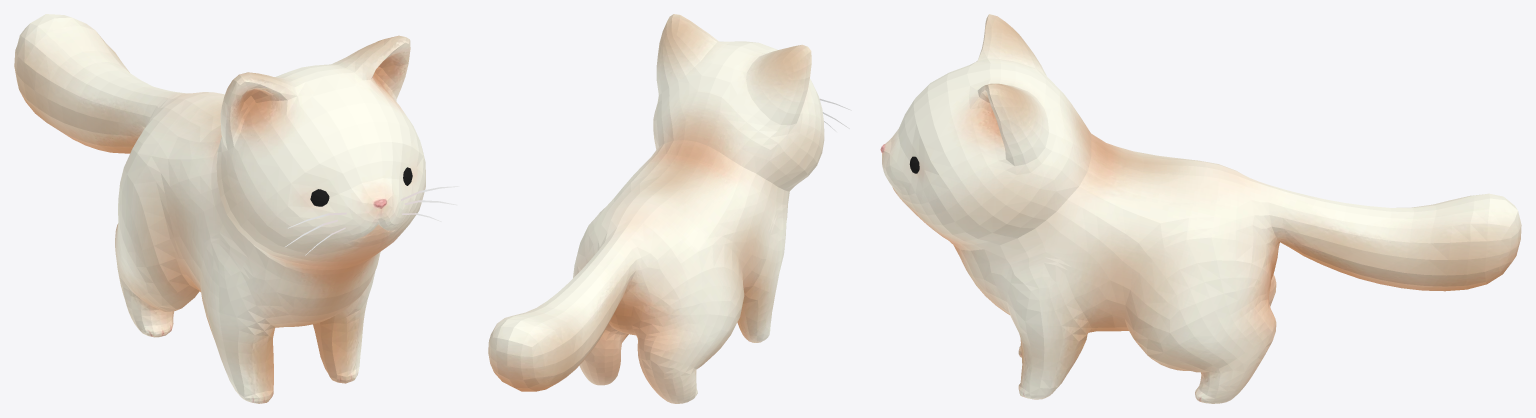
The model's file is cat.glb.
The picture shows the model from 3 angles, left to right: view 1: azimuth 30°, elevation 25°; view 2: azimuth 150°, elevation 25°; view 3: azimuth 270°, elevation 25°; orthographic projection. The views are drawn at different scales.
Visible parts, largest first — view 1: fat_cat_white; view 2: fat_cat_white; view 3: fat_cat_white.
Part boxes in pixels (x1,y1,x2,y2): fat_cat_white: (14, 14, 459, 403); fat_cat_white: (488, 14, 851, 403); fat_cat_white: (880, 14, 1521, 403).
Bounding box in the file's own units: 0.3137 × 0.5763 × 1.03.
Materials: 1 (1 with a texture image).
